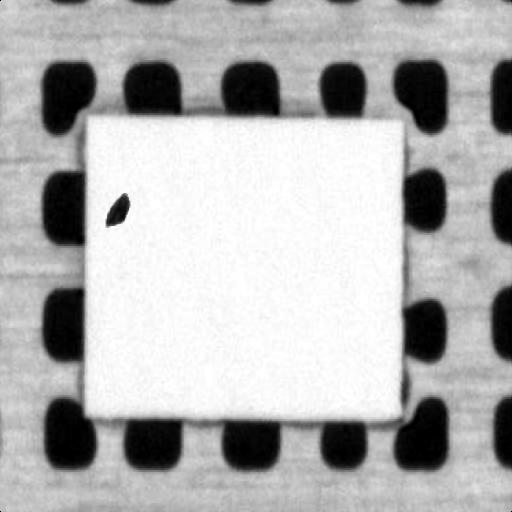DIE_INK: (135, 140, 173, 172)
